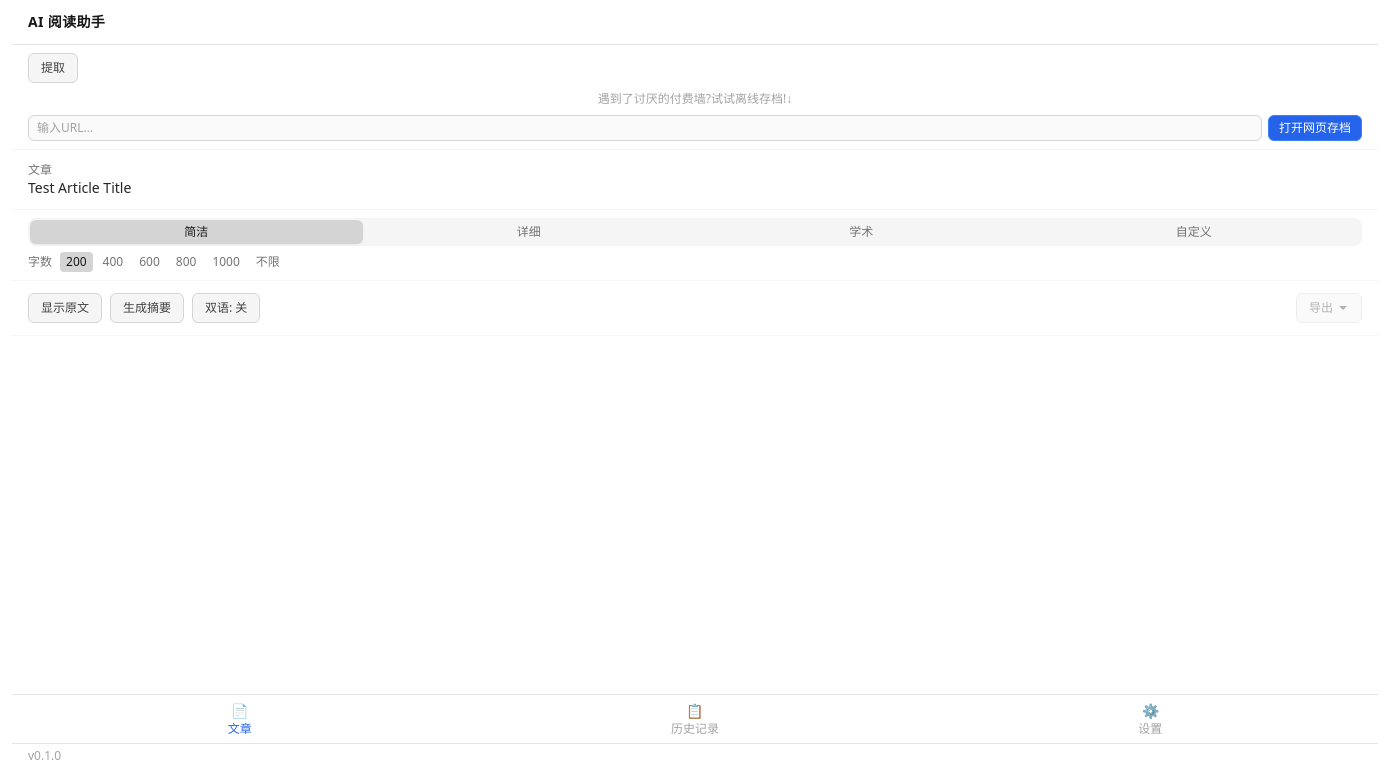
App – summary flow › handles stream finishing while paused — no duplicate content
This screenshot has width=1390, height=768.
Expected: the heading "Test Article Title" is shown, x1=28 y1=178 x2=131 y2=197
Click the button "生成摘要" at (147, 308), box x1=110 y1=293 x2=184 y2=323
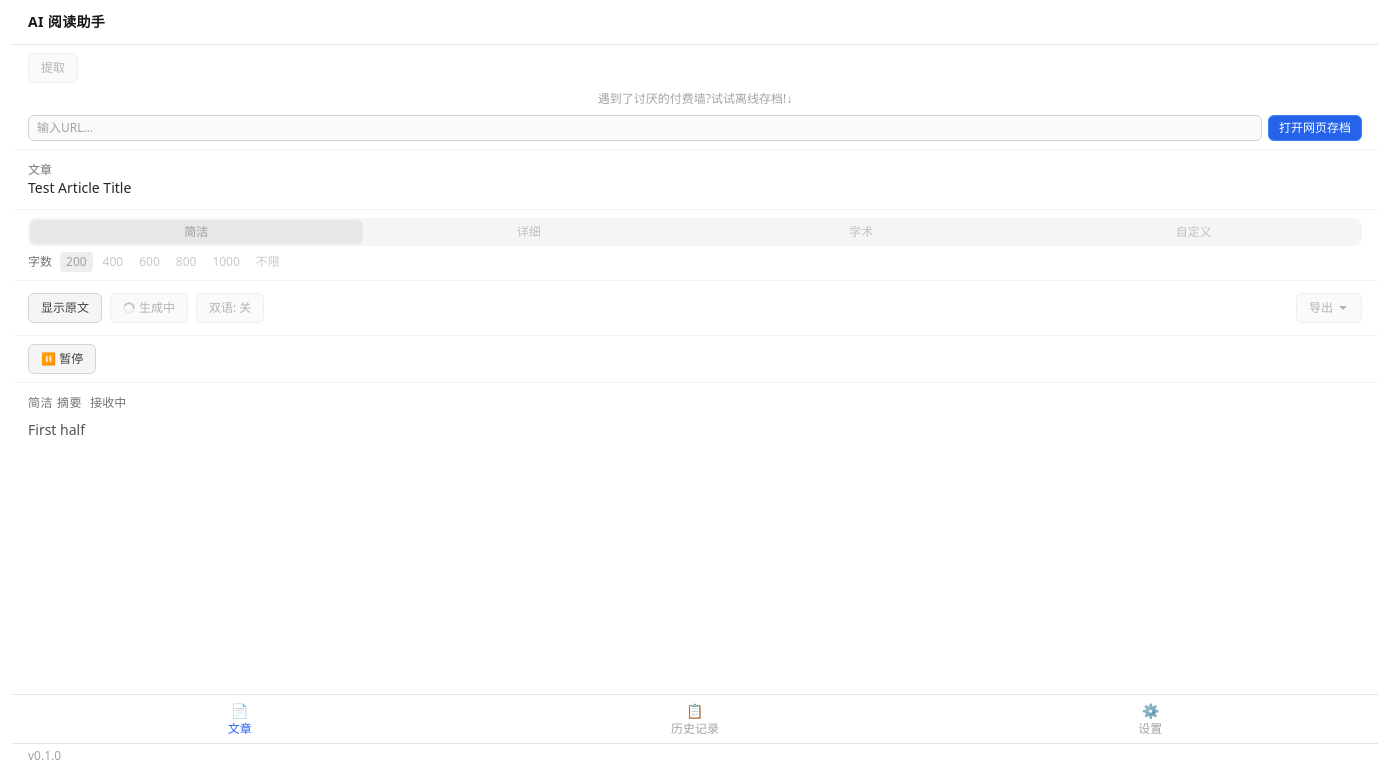
Now the text "First half" is shown, box x1=28 y1=420 x2=85 y2=439
Note: Click pause
Click the button "⏸ 暂停" at (62, 359), box x1=28 y1=344 x2=96 y2=374
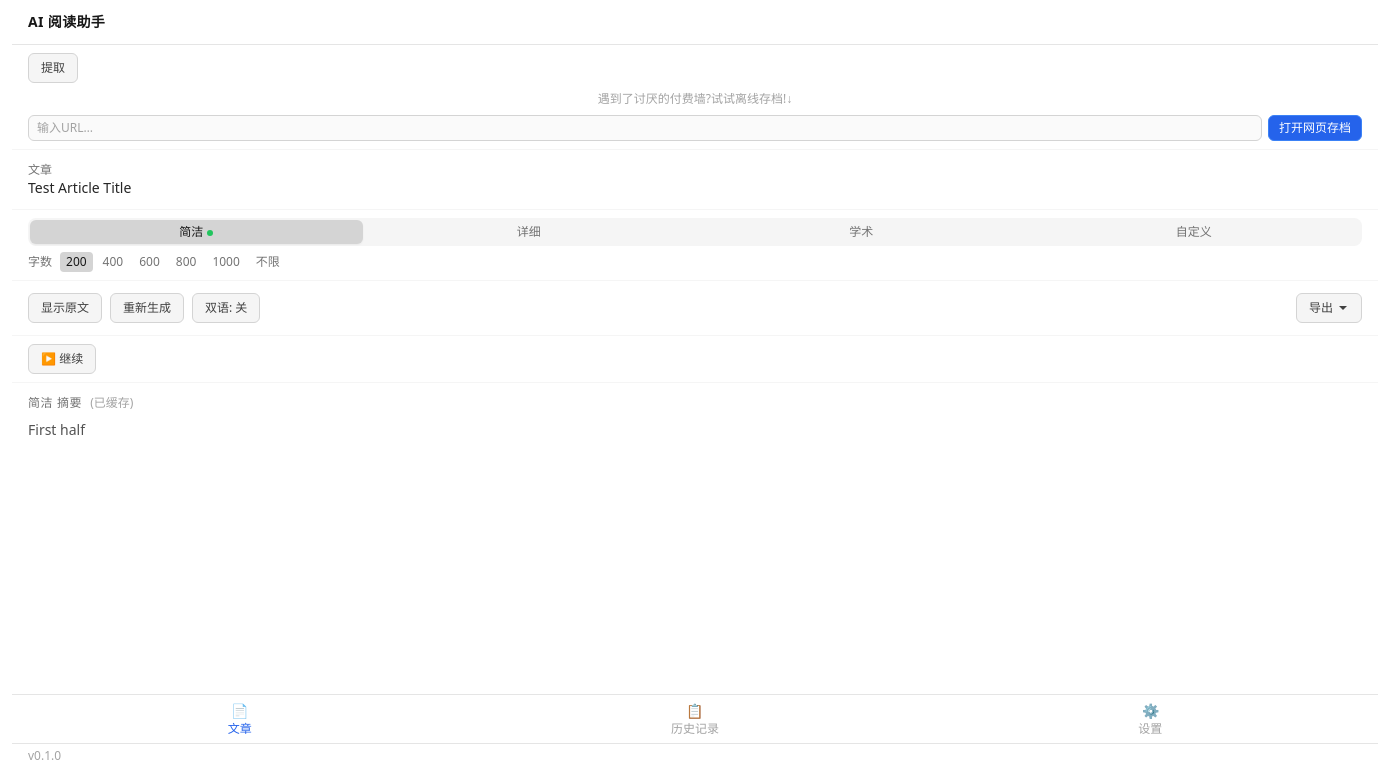
Expected: the text "second half" is not shown
Now the text "First half" is shown, box x1=28 y1=420 x2=85 y2=439
Now the button "▶ 继续" is shown
Note: Continue button still visible — click it
Click the button "▶ 继续" at (62, 359), box x1=28 y1=344 x2=96 y2=374
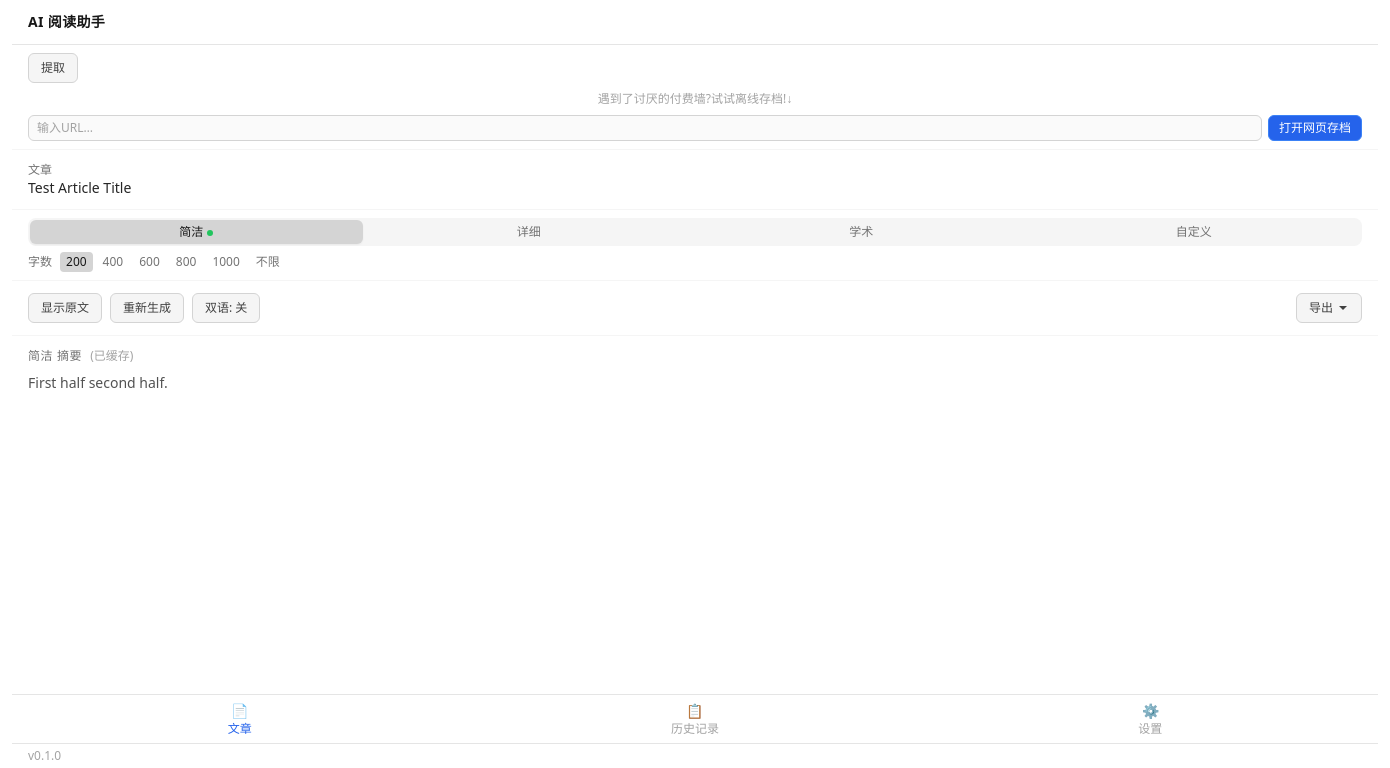
Now the text "First half second half." is shown, box x1=28 y1=373 x2=168 y2=392
Now the button "继续" is gone
